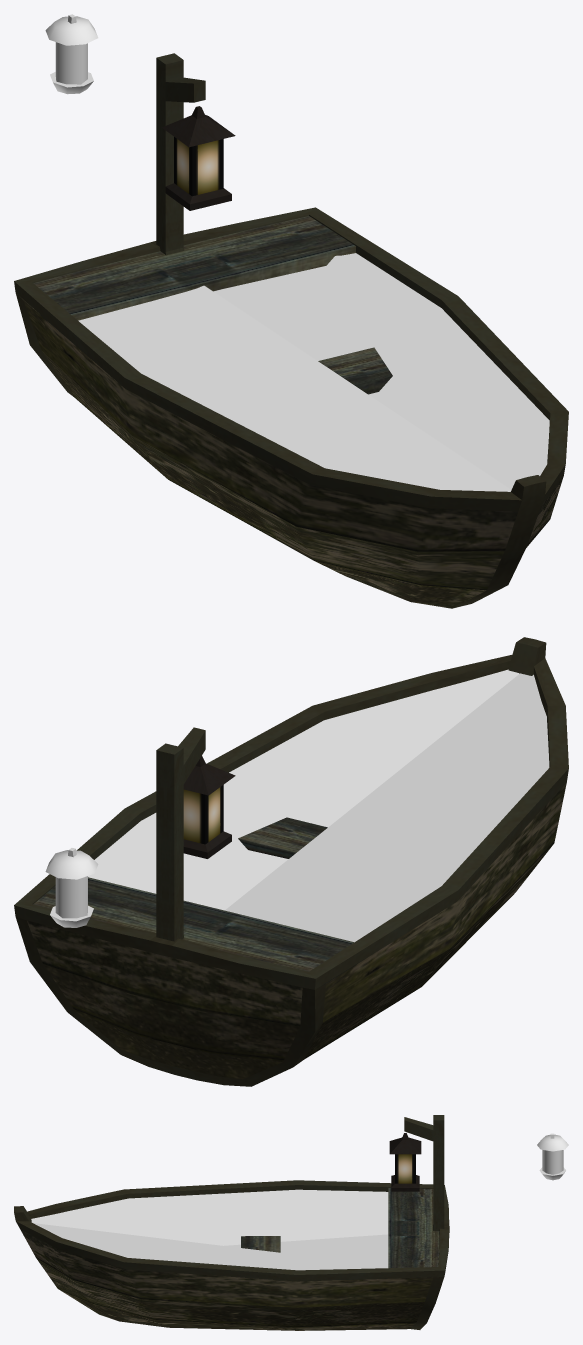
File: boats.fbx
3 views of the same model, one above another, from view 1: azimuth 30°, elevation 25°; view 2: azimuth 150°, elevation 25°; view 3: azimuth 270°, elevation 25° (orthographic). The views are drawn at different scales.
Parts seen in each view (by area): view 1: WaterMask, Hull, Seats, Lantern, Cube.002; view 2: Hull, WaterMask, Seats, Lantern, Cube.002; view 3: Hull, WaterMask, Seats, Lantern, Cube.002.
Part boxes in pixels (x1=…): WaterMask: x1=78, y1=253, x2=549, y2=491; Hull: x1=14, y1=207, x2=568, y2=608; Seats: x1=33, y1=53, x2=392, y2=394; Lantern: x1=162, y1=106, x2=235, y2=210; Cube.002: x1=45, y1=14, x2=98, y2=94; Hull: x1=14, y1=637, x2=568, y2=1086; WaterMask: x1=88, y1=669, x2=549, y2=942; Seats: x1=33, y1=727, x2=353, y2=971; Lantern: x1=183, y1=756, x2=235, y2=858; Cube.002: x1=45, y1=848, x2=98, y2=927; Hull: x1=14, y1=1180, x2=449, y2=1330; WaterMask: x1=31, y1=1189, x2=388, y2=1270; Seats: x1=241, y1=1115, x2=444, y2=1268; Lantern: x1=389, y1=1133, x2=421, y2=1191; Cube.002: x1=537, y1=1133, x2=568, y2=1180.
Bounding box in the file's own units: 236 × 230 × 585.
